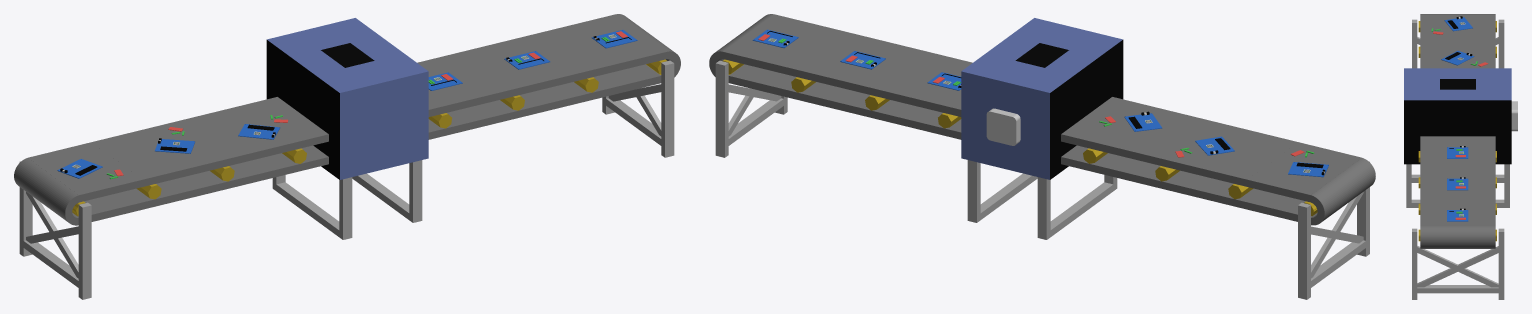
Rendered from accuracy1.glb.
The picture shows the model from 3 angles, left to right: view 1: azimuth 30°, elevation 25°; view 2: azimuth 150°, elevation 25°; view 3: azimuth 270°, elevation 25°; orthographic projection. The views are drawn at different scales.
Visible parts, largest first — view 1: belt_start, machine, machine.002, foot3, foot3.001, foot3.002, foot2.002, foot2.005, foot3.003, machine.003, board2, board1 (+3 smaller); view 2: belt_start, machine, machine.002, foot3, foot3.001, machine.004, foot3.002, foot2.003, foot2.006, foot3.003, machine.003, board7 (+4 smaller); view 3: belt_start, machine.001, machine, foot3.001, foot3, machine.003, board2, board6, board5, board1, board3, foot2.006 (+4 smaller).
Boxes of the visible parts, x1,y1,x2,y2 form: belt_start: (14,14,680,225); machine: (267,18,428,179); machine.002: (266,40,339,179); foot3: (19,161,91,299); foot3.001: (602,60,674,157); foot3.002: (276,182,339,236); foot2.002: (339,177,352,239); foot2.005: (409,160,422,222); foot3.003: (352,173,409,219); machine.003: (321,43,374,67); board2: (504,51,550,69); board1: (591,30,637,48); belt_start: (709,14,1375,225); machine: (961,18,1122,179); machine.002: (1050,40,1123,179); foot3: (1298,161,1369,299); foot3.001: (715,60,787,157); machine.004: (986,108,1020,145); foot3.002: (1050,182,1113,236); foot2.003: (1037,177,1050,239); foot2.006: (967,160,980,222); foot3.003: (980,173,1037,219); machine.003: (1015,43,1068,67); board7: (1124,111,1162,131); belt_start: (1418,14,1496,248); machine.001: (1404,100,1511,164); machine: (1404,68,1511,100); foot3.001: (1412,228,1504,299); foot3: (1412,19,1504,68); machine.003: (1440,79,1475,89); board2: (1447,177,1468,190); board6: (1441,51,1474,65); board5: (1444,16,1472,31); board1: (1447,208,1468,221); board3: (1447,146,1468,158); foot2.006: (1504,164,1509,207).
Bounding box in the file's own units: 8.46 × 1.96 × 1.84.
